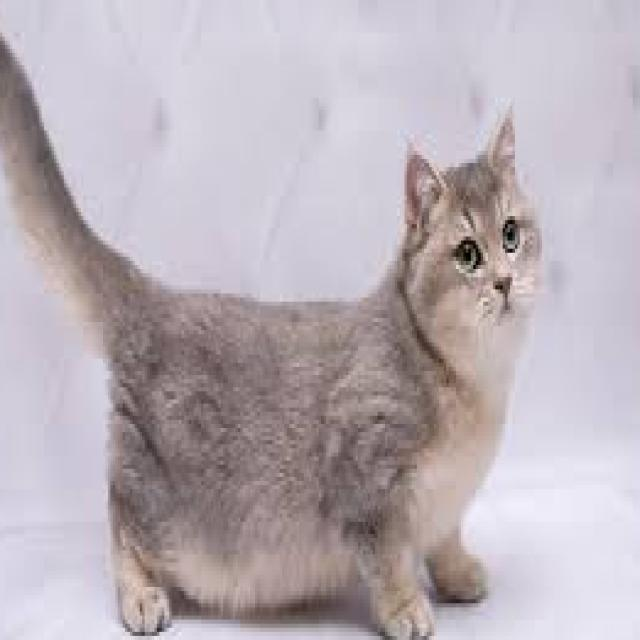Munchkin: (0, 8, 544, 640)
